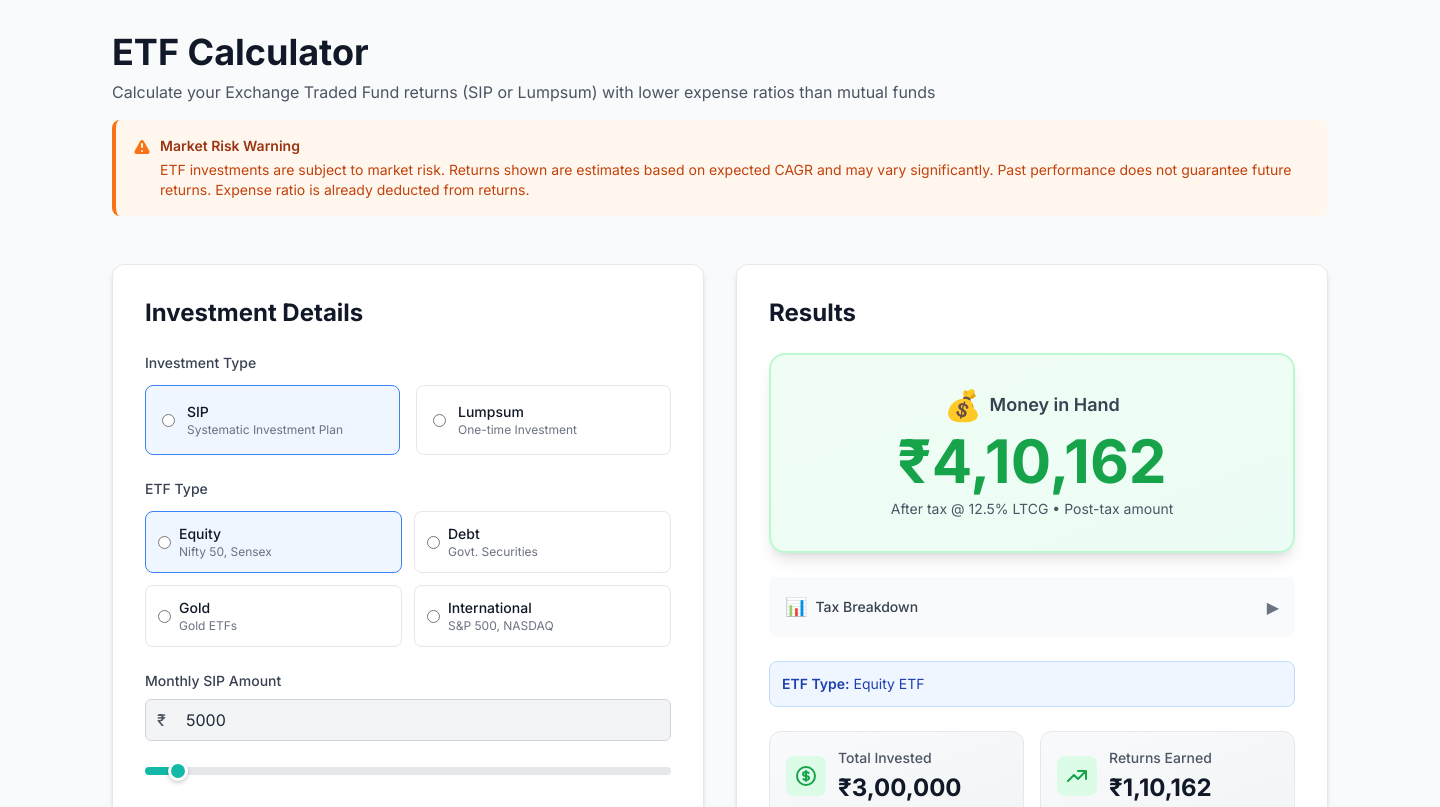
Test: ETF Calculator integration › ETF-08: invalid min amount shows inline validation error in DOM
Type "499" into the number field with placeholder "5000" at coordinates (408, 720), box [145,699,671,741]
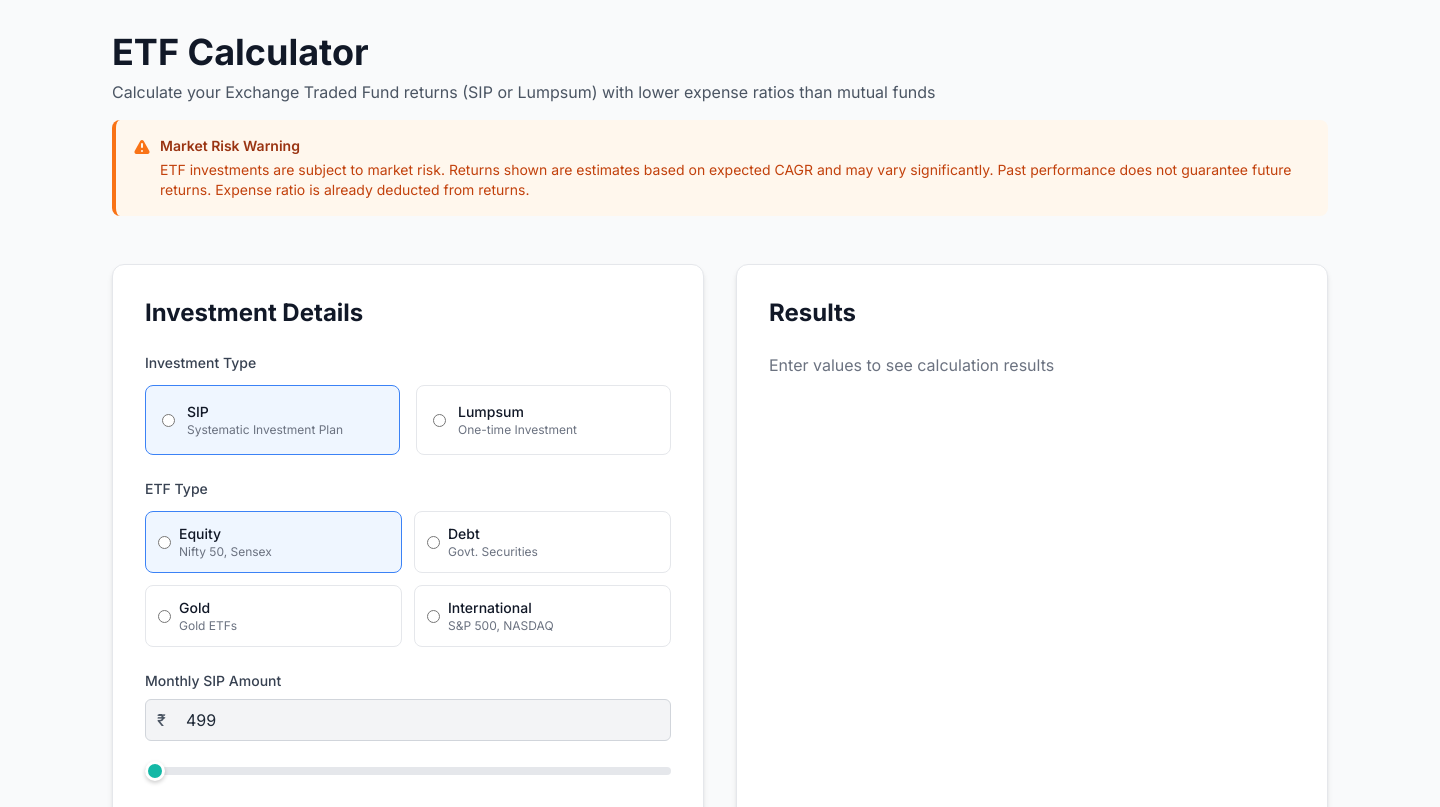
Leave the number field with placeholder "5000", box [145,699,671,741]
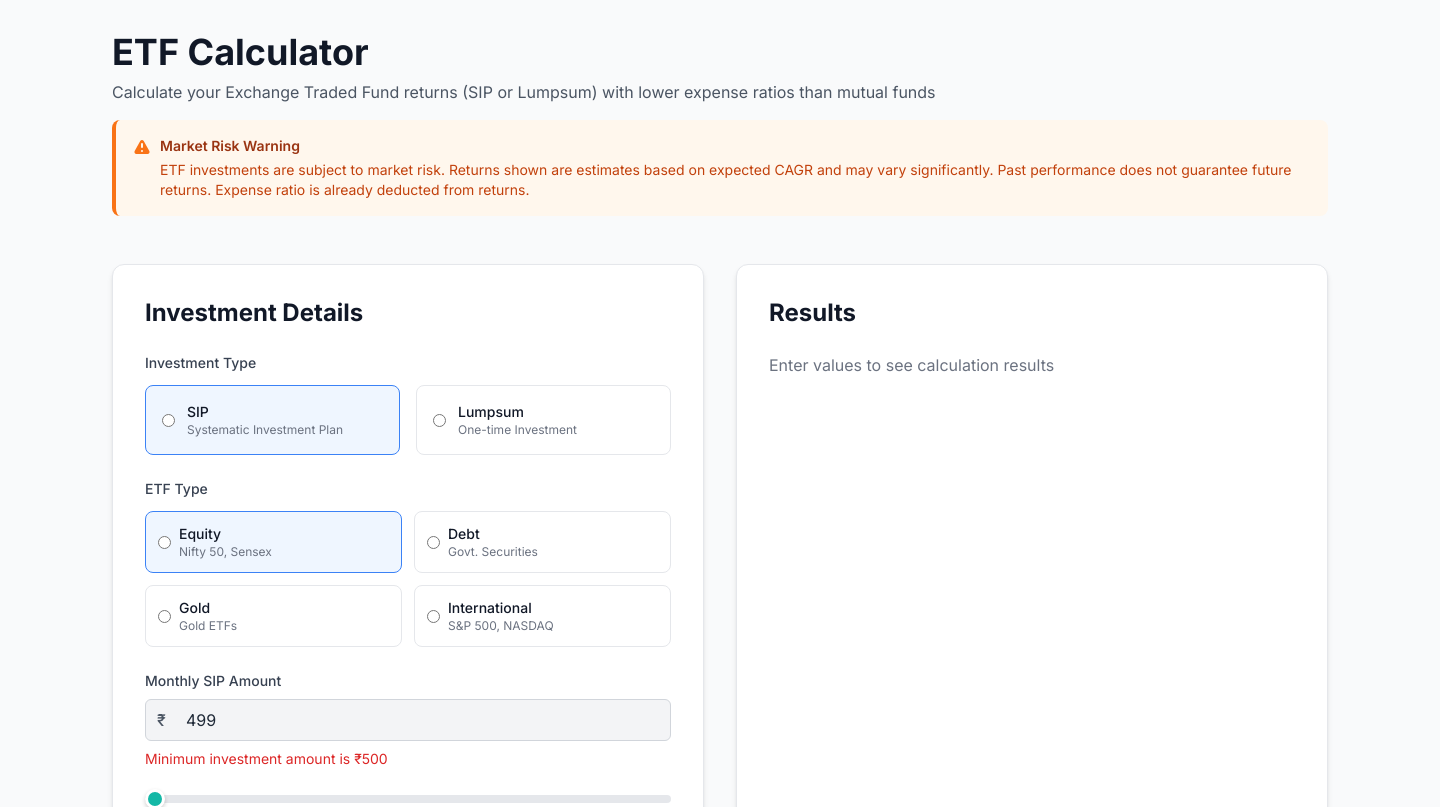
Now the text "Minimum investment amount is ₹500" is shown, box [145,750,388,767]
